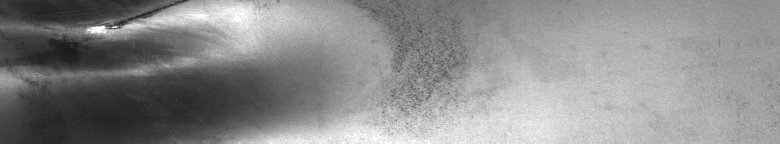ke: (4, 4, 284, 136)
